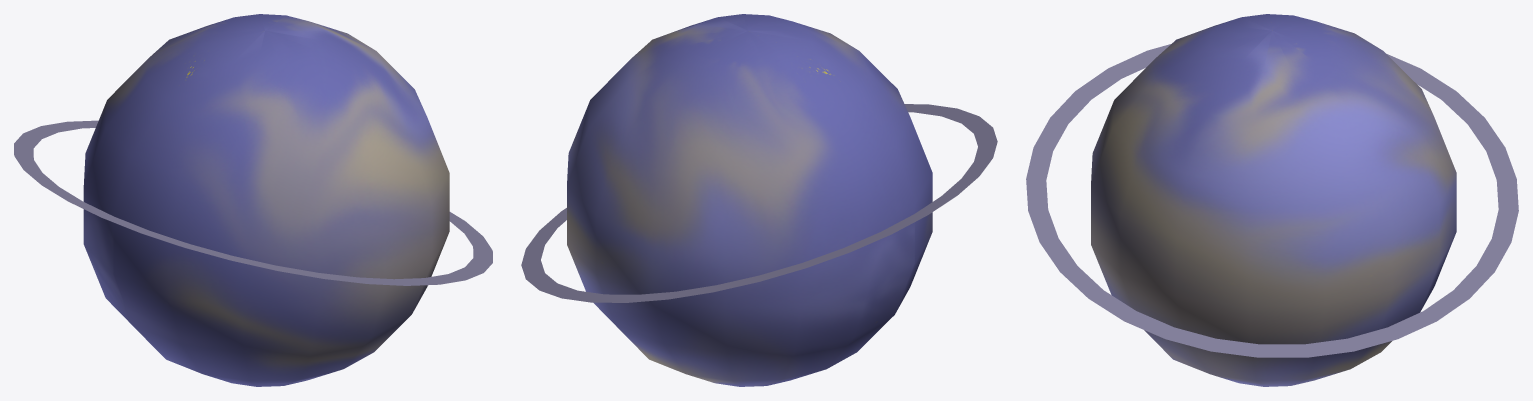
The model's file is ringedblue.fbx.
3 views of the same model, side by side, from view 1: azimuth 30°, elevation 25°; view 2: azimuth 150°, elevation 25°; view 3: azimuth 270°, elevation 25° (orthographic).
Visible parts, largest first — view 1: Sphere.006; view 2: Sphere.006; view 3: Sphere.006.
Part boxes in pixels (bbox=[...]): Sphere.006: bbox=[14, 14, 492, 386]; Sphere.006: bbox=[521, 14, 997, 386]; Sphere.006: bbox=[1026, 14, 1518, 386].
Bounding box in the file's own units: 2.87 × 2.27 × 2.99.
